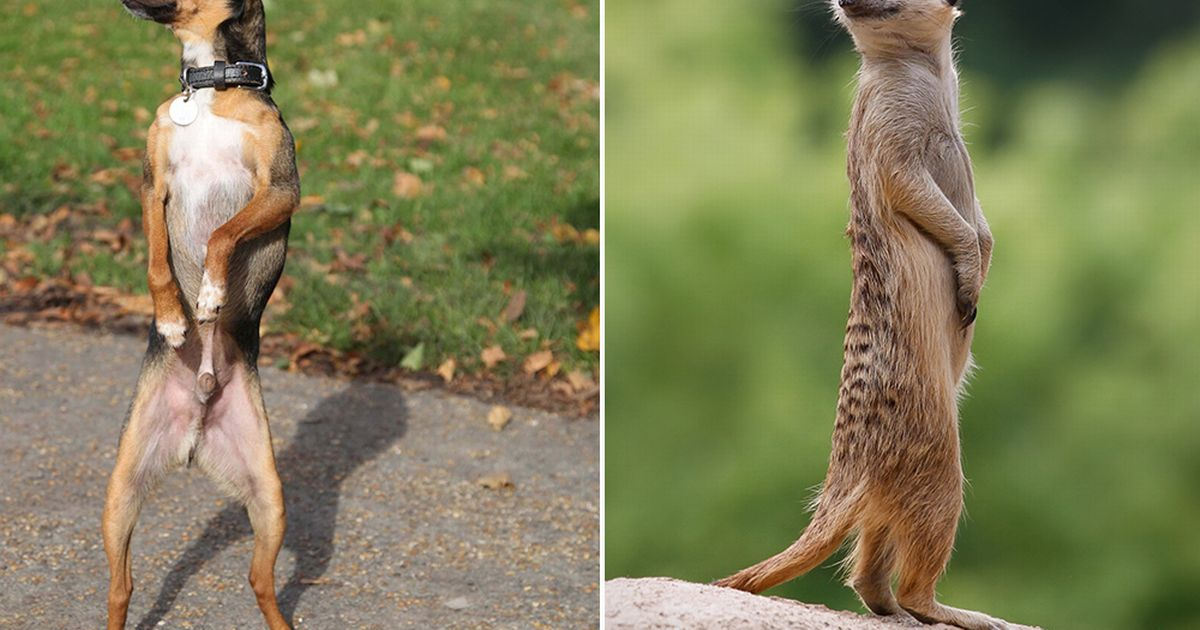meerkat: (786, 2, 1025, 630)
